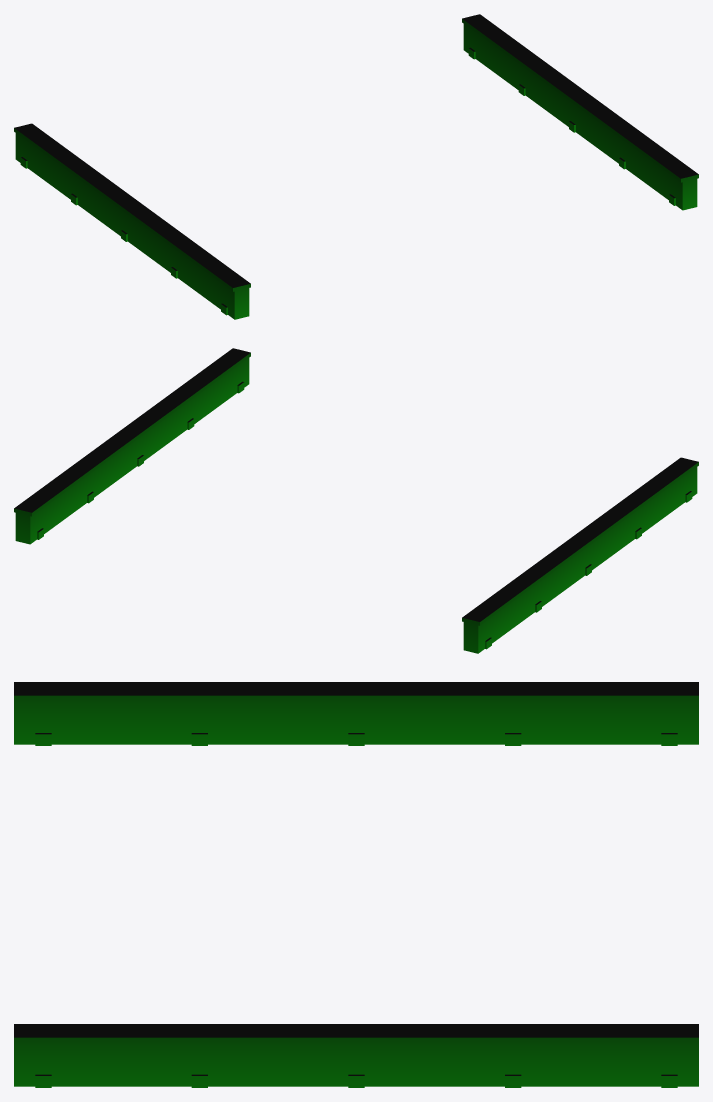
The model's file is bridge.glb.
3 renders of one model, top to bottom at view 1: azimuth 30°, elevation 25°; view 2: azimuth 150°, elevation 25°; view 3: azimuth 270°, elevation 25°, orthographic. The views are drawn at different scales.
Parts seen in each view (by area): view 1: lod0; view 2: lod0; view 3: lod0.
Boxes of the visible parts, left/top/right/bottom form: lod0: left=14, top=14, right=698, bottom=319; lod0: left=14, top=348, right=698, bottom=653; lod0: left=14, top=682, right=698, bottom=1087.
Size of what is drawn, in the model's own units: 25.8 by 1.7 by 21.
